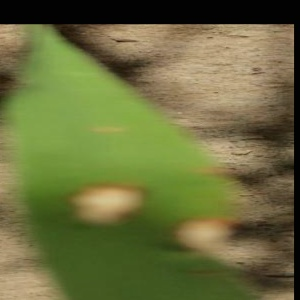Brown_Spot: (52, 168, 163, 242), (162, 200, 251, 258)
